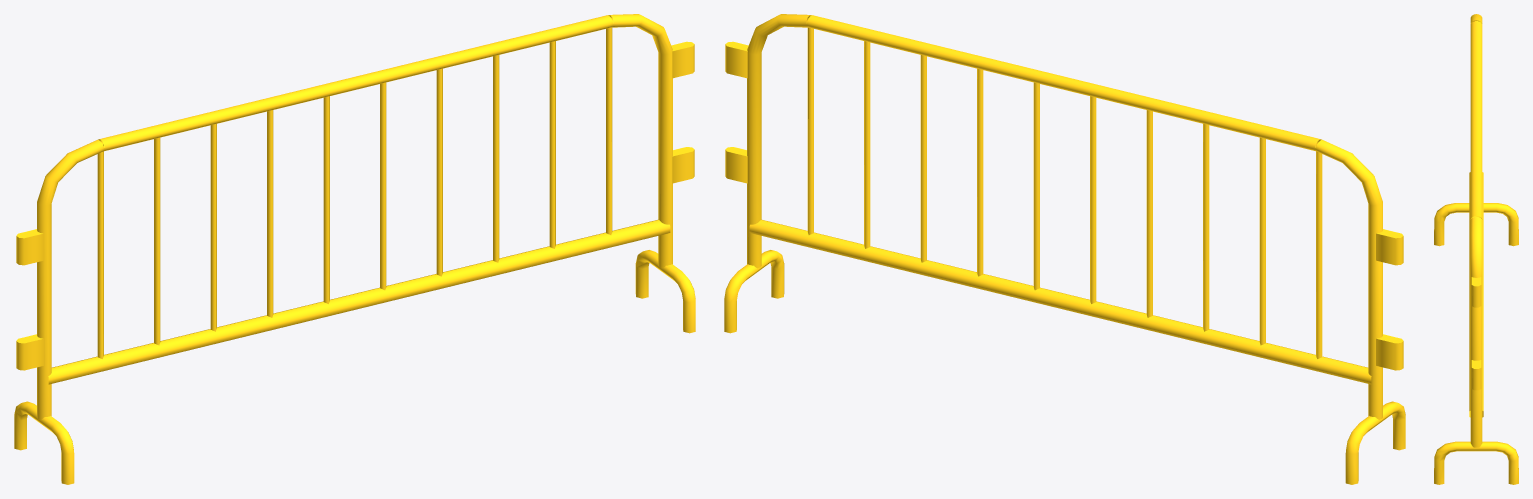
File: MetalBarrierYellow.glb
The picture shows the model from 3 angles, left to right: view 1: azimuth 30°, elevation 25°; view 2: azimuth 150°, elevation 25°; view 3: azimuth 270°, elevation 25°; orthographic projection. The views are drawn at different scales.
Visible parts, largest first — view 1: MetalBarrierYellow; view 2: MetalBarrierYellow; view 3: MetalBarrierYellow.
Part boxes in pixels (x1=…): MetalBarrierYellow: x1=14, y1=14, x2=695, y2=484; MetalBarrierYellow: x1=724, y1=14, x2=1405, y2=484; MetalBarrierYellow: x1=1434, y1=14, x2=1518, y2=484.
Size of the model in its own units: 2.61 by 1.15 by 0.36.
1 material, 1 textured.
